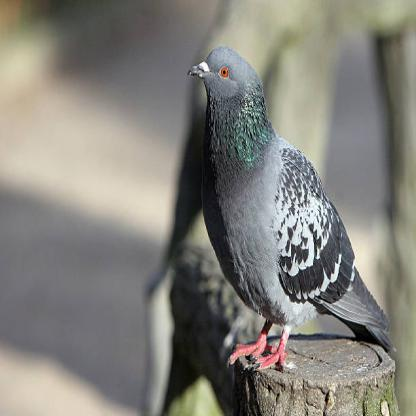Flying Rat: (183, 44, 386, 380)
